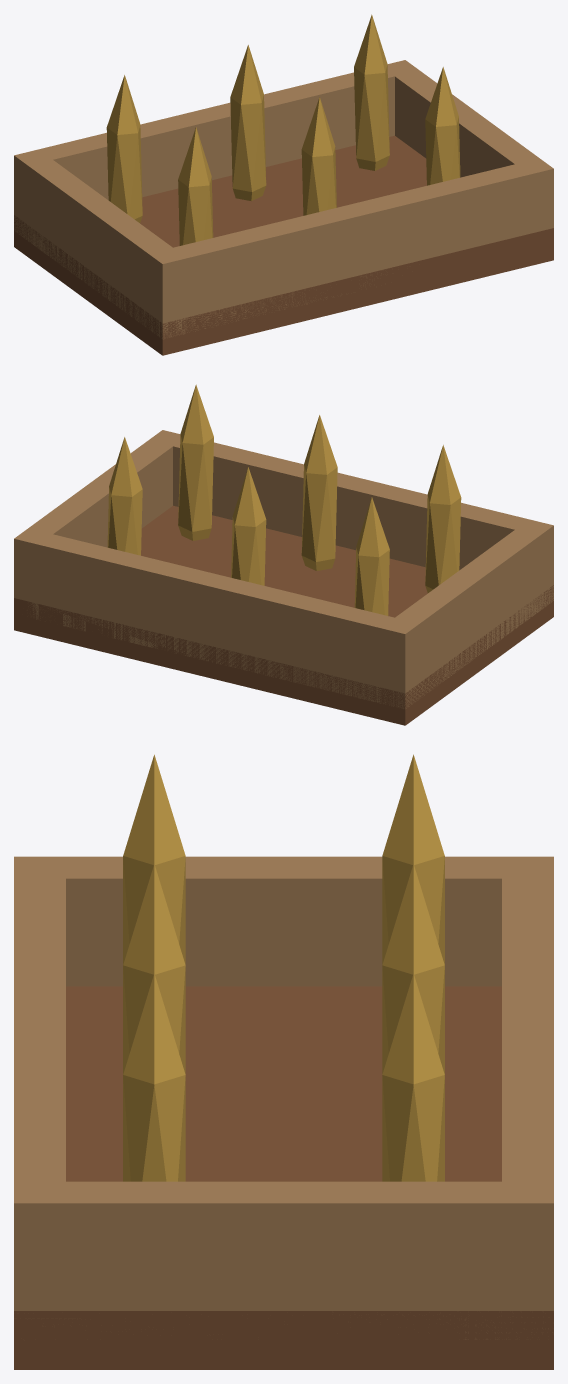
The model's file is set_carrot_bundle.glb.
3 renders of one model, top to bottom at view 1: azimuth 30°, elevation 25°; view 2: azimuth 150°, elevation 25°; view 3: azimuth 270°, elevation 25°, orthographic. The views are drawn at different scales.
Parts seen in each view (by area): view 1: set_carrot_bundle; view 2: set_carrot_bundle; view 3: set_carrot_bundle.
Boxes of the visible parts, x1,y1,x2,y2 form: set_carrot_bundle: (14,14,553,355); set_carrot_bundle: (14,384,553,725); set_carrot_bundle: (14,754,553,1369).
Bounding box in the file's own units: 0.38 × 0.18 × 0.25.
